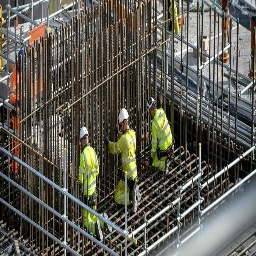helmet: (118, 106, 131, 125), (78, 122, 90, 141), (145, 95, 154, 112)
person: (111, 109, 141, 214), (77, 124, 103, 238), (146, 91, 173, 175)
vest: (78, 146, 100, 202), (117, 130, 137, 181), (152, 112, 171, 152)
